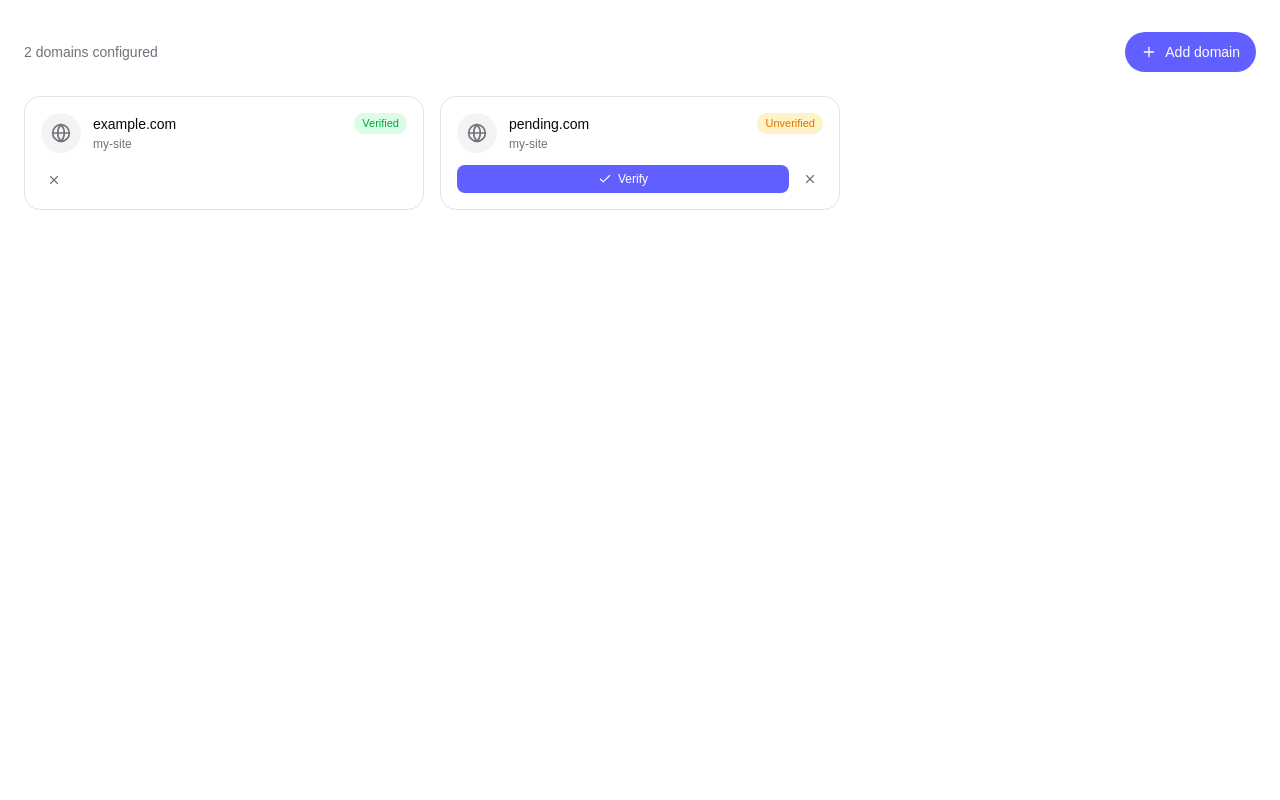
Test: DomainsSection › adds a custom domain to the selected site
The width and height of the screenshot is (1280, 800).
Click the button "Add domain". click: (1191, 52)
box: [1125,32,1256,72]
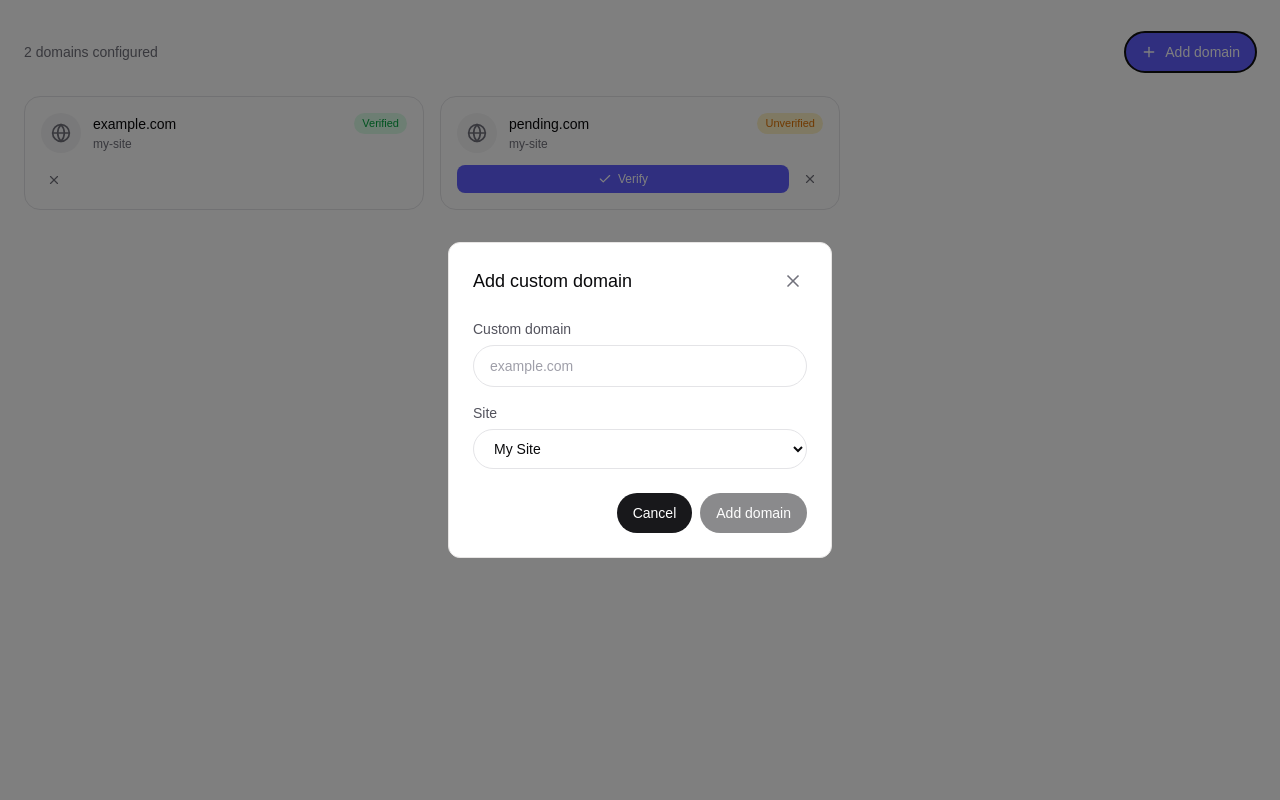
Type "newdomain.com" into the field labelled "Custom domain". click: (640, 366)
box: [473,345,807,387]
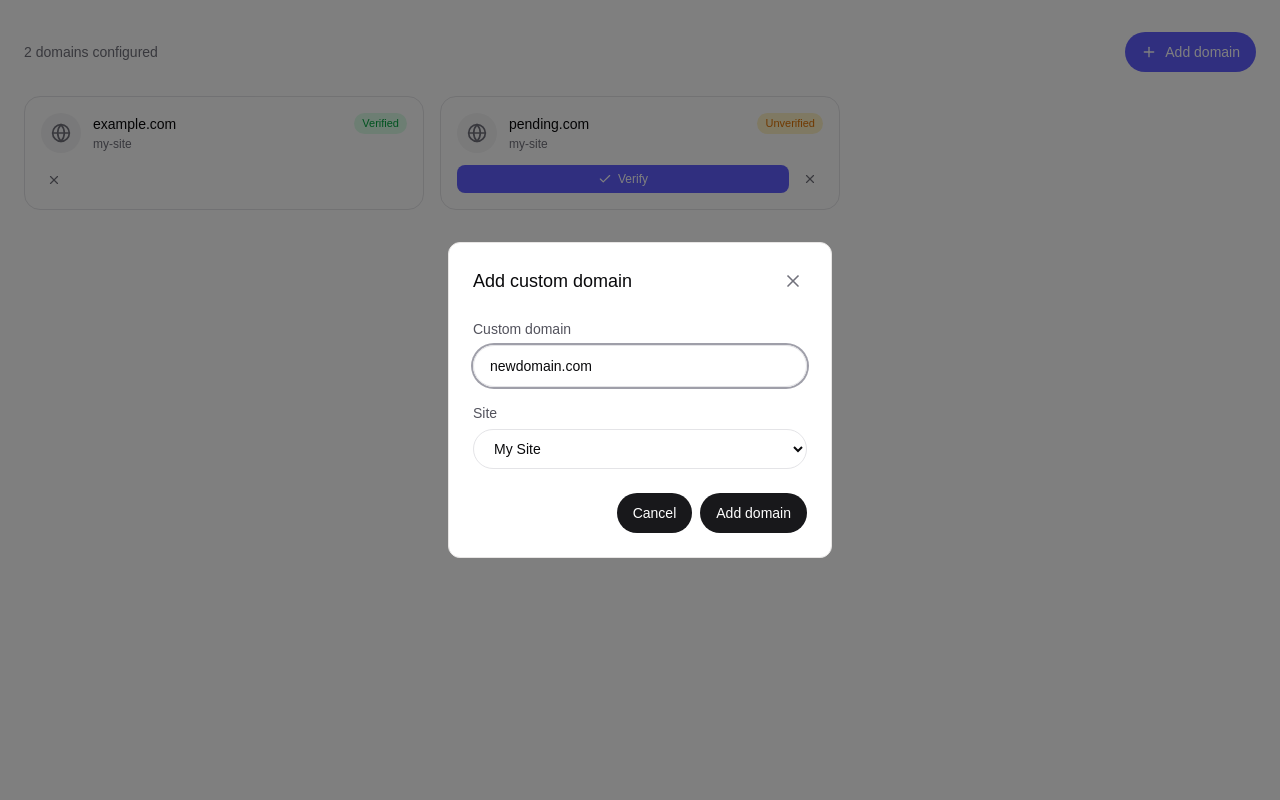
Click the button "Add domain". click: (754, 513)
box: [700,493,807,533]
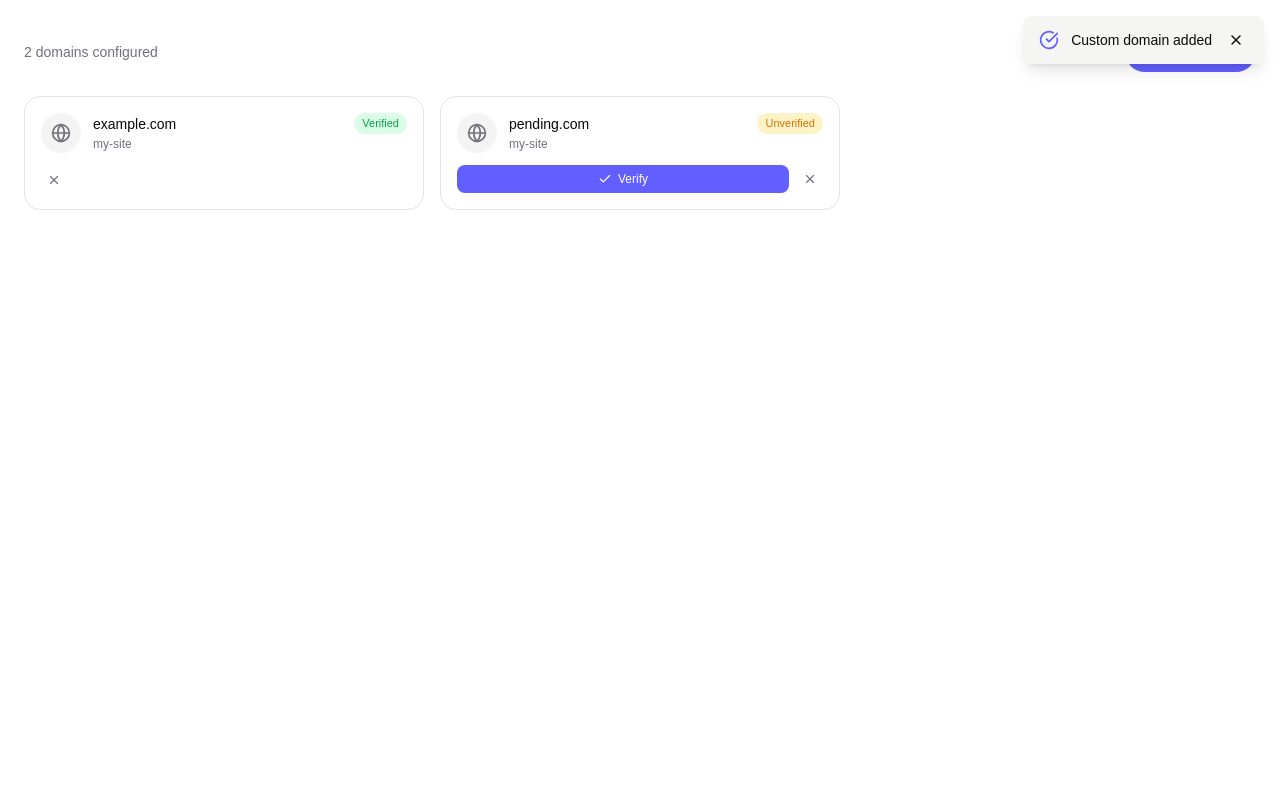
Check: the text "Custom domain added" is shown, box [1071,30,1212,50]
Check: the heading "Add custom domain" is gone
